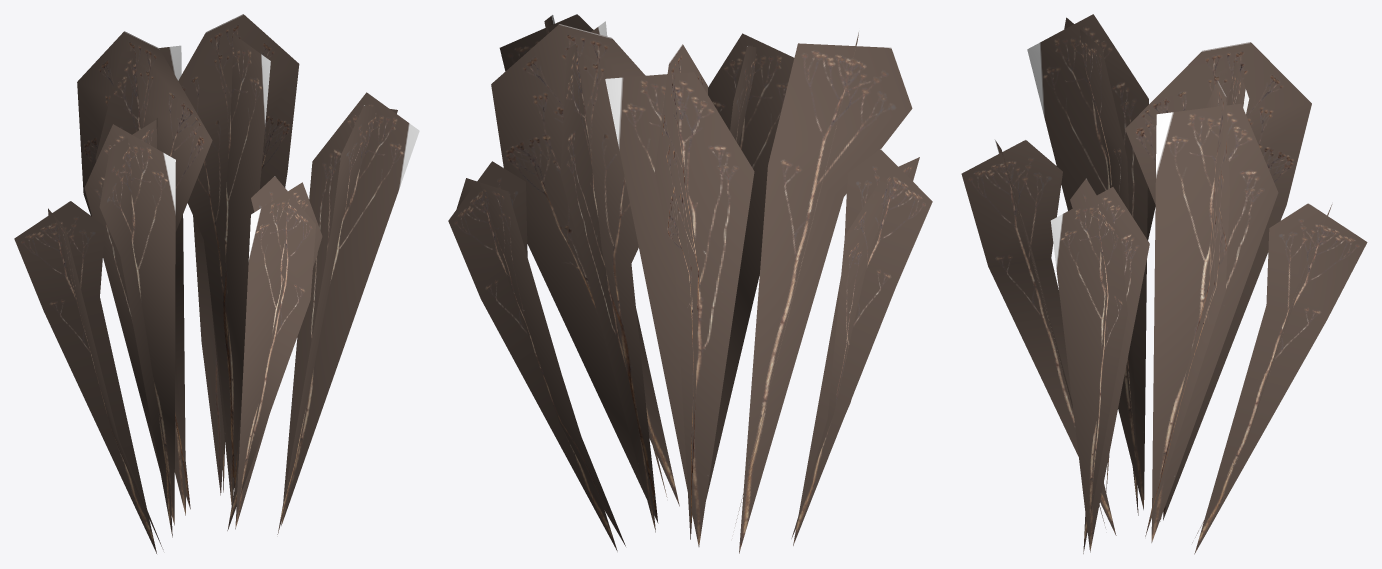
File: Grass_B_4.fbx
3 views of the same model, side by side, from view 1: azimuth 30°, elevation 25°; view 2: azimuth 150°, elevation 25°; view 3: azimuth 270°, elevation 25° (orthographic). The views are drawn at different scales.
Visible parts, largest first — view 1: Grass_B_4; view 2: Grass_B_4; view 3: Grass_B_4.
Boxes of the visible parts, box(x1,y1,x2,y2) form: Grass_B_4: box(14, 14, 419, 553); Grass_B_4: box(448, 14, 932, 553); Grass_B_4: box(961, 14, 1367, 554).
Bounding box in the file's own units: 0.8776 × 1.03 × 0.7885.
